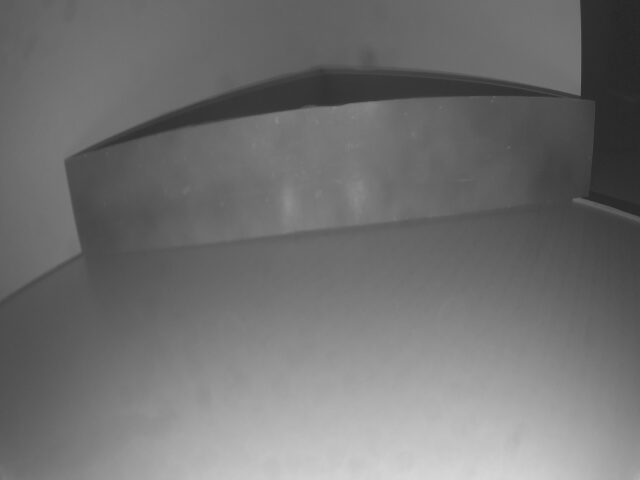Green: (65, 102, 597, 258)
